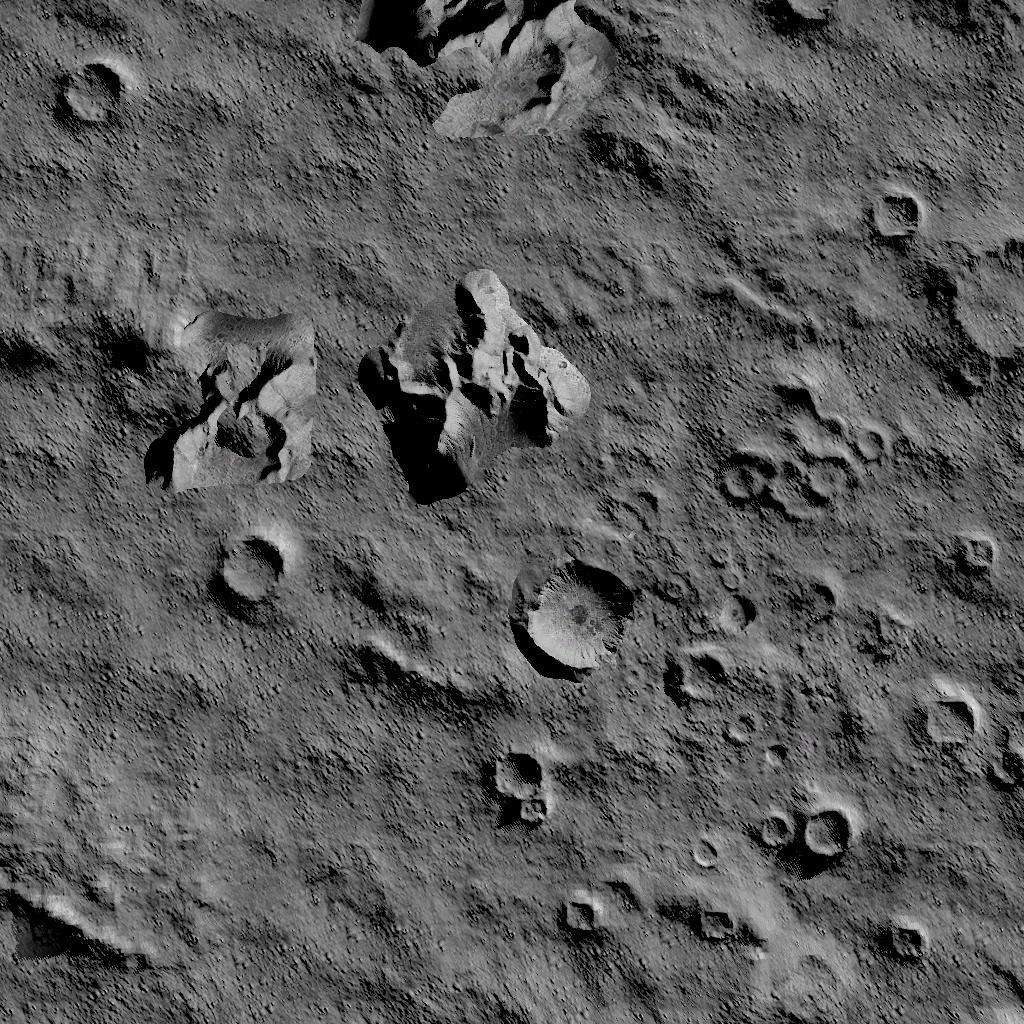Boulders: (346, 266, 583, 505), (120, 290, 309, 486), (392, 0, 615, 131)
Crater: (720, 378, 888, 520), (518, 560, 636, 678), (947, 226, 1024, 376), (210, 526, 290, 612), (48, 59, 130, 129), (750, 808, 848, 857), (486, 752, 551, 825), (864, 185, 927, 243), (916, 694, 974, 748), (982, 726, 1024, 800), (666, 647, 726, 697), (950, 523, 1002, 569), (712, 590, 758, 631), (556, 892, 598, 934), (878, 920, 924, 958), (690, 902, 734, 937), (686, 830, 719, 866), (732, 697, 758, 729)
Plan surface: (211, 652, 479, 954), (0, 514, 197, 832), (137, 0, 373, 192)
